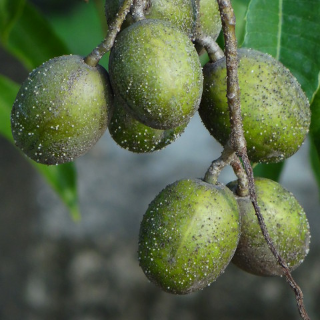coc: (139, 176, 238, 296), (11, 54, 110, 166), (111, 19, 202, 125)
